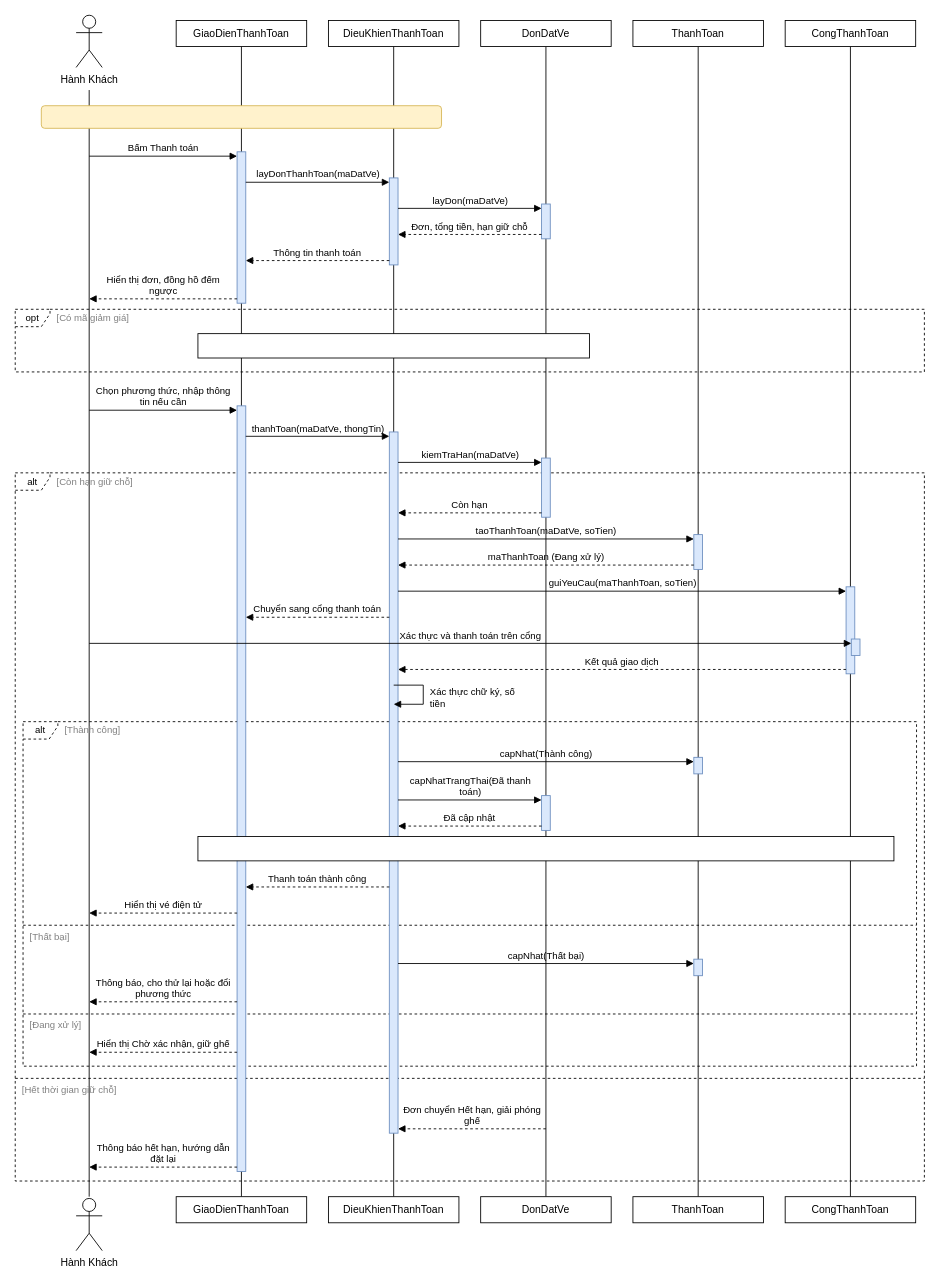
Some shapes in this 940 by 1284 pixel diagram are drawn without their labels. Here are the shapes that lost their labels. From the top down, the centre of each, then its label:
[241,116]: Đơn đặt vé 'Chờ thanh toán', ghế đang giữ (còn trong 10 phút)
[393,345]: ref UC09 - Áp dụng mã giảm giá
[545,848]: ref UC11 - Nhận vé điện tử
